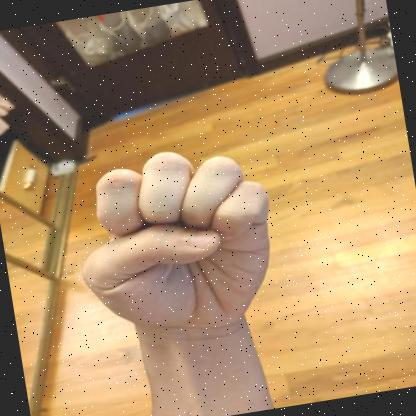E: (81, 151, 269, 337)
